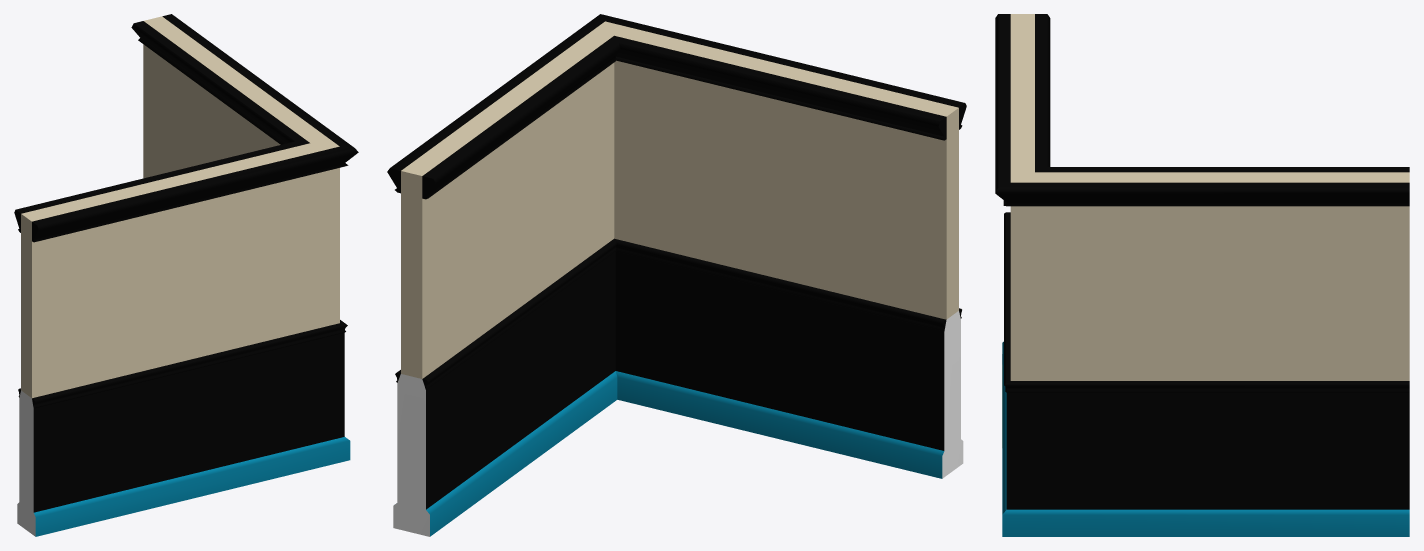
File: Classic_Wall_Corner.fbx
3 views of the same model, side by side, from view 1: azimuth 30°, elevation 25°; view 2: azimuth 150°, elevation 25°; view 3: azimuth 270°, elevation 25° (orthographic). The views are drawn at different scales.
Parts seen in each view (by area): view 1: Classic_Wall_Corner_LOD00; view 2: Classic_Wall_Corner_LOD00; view 3: Classic_Wall_Corner_LOD00.
Boxes of the visible parts, x1,y1,x2,y2 form: Classic_Wall_Corner_LOD00: [14, 14, 358, 536]; Classic_Wall_Corner_LOD00: [387, 14, 966, 536]; Classic_Wall_Corner_LOD00: [995, 14, 1409, 536].
Size of what is drawn, in the model's own units: 321 by 300 by 321.
